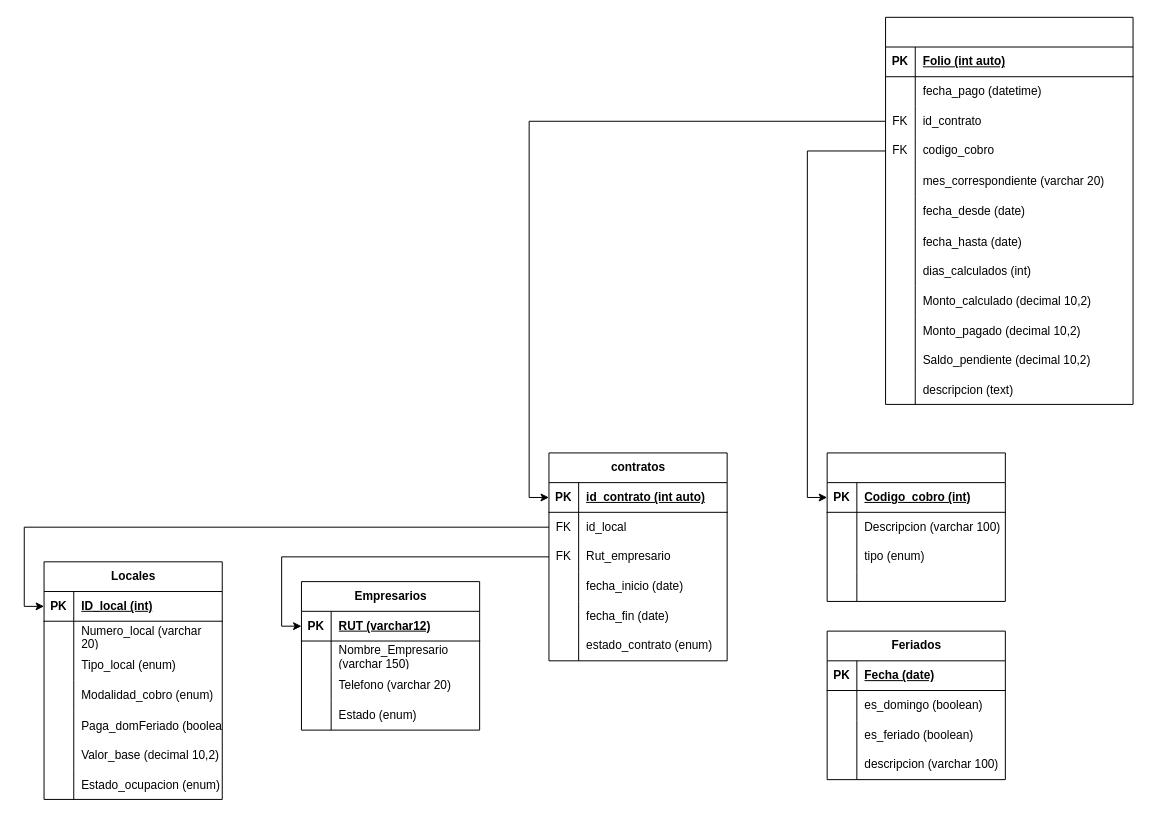
Some shapes in this 1150 by 817 pixel diagram are drawn without their labels. Each missing label, with the box of its shape:
Cobros: (826, 452, 1005, 601)
Pagos: (885, 16, 1133, 404)
